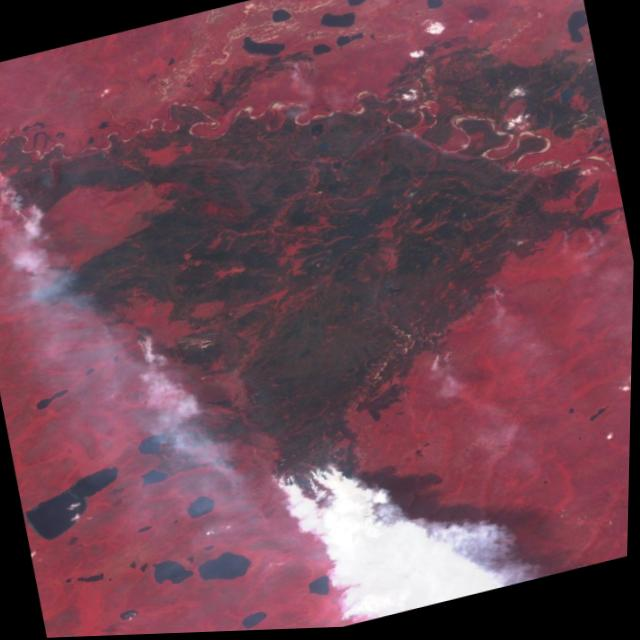fire: (253, 440, 388, 527), (0, 126, 52, 234), (541, 204, 631, 263), (119, 313, 172, 366), (413, 338, 468, 380)
